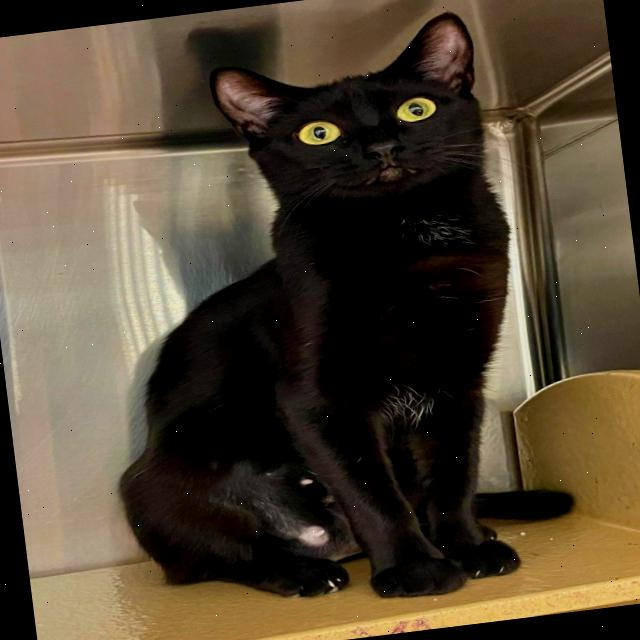bombay_cat: (196, 2, 506, 234)
